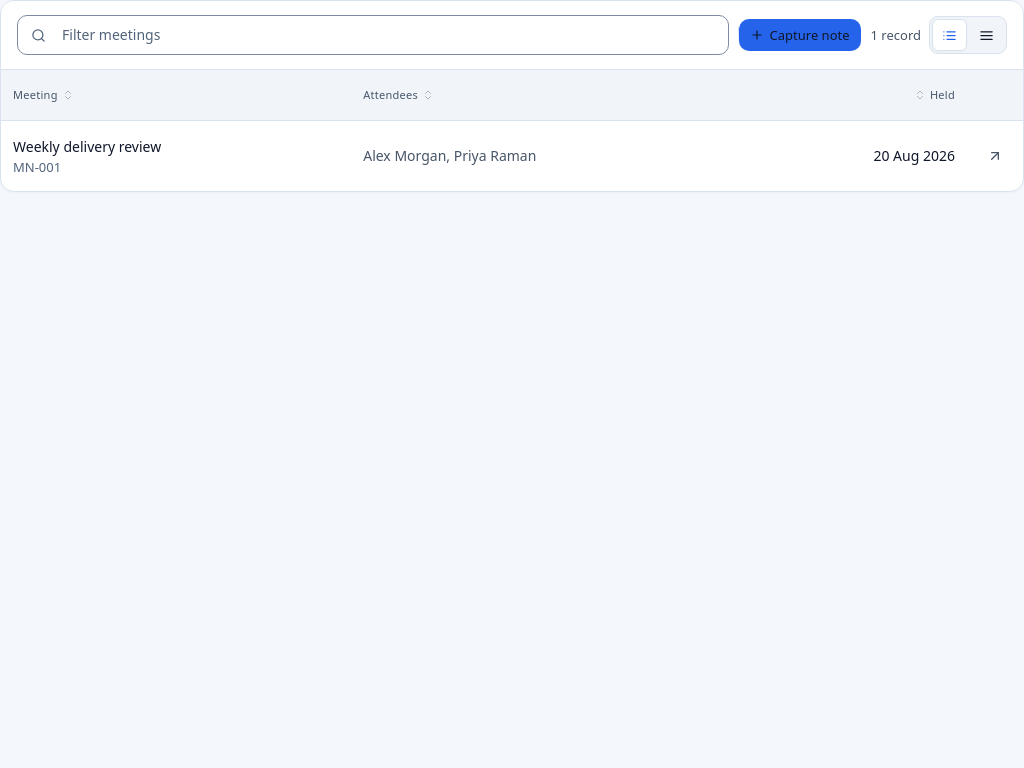
meeting notes › sends the reviewed wording, not the extracted line
Click the text "Weekly delivery review" at (87, 146), box [13,137,161,156]
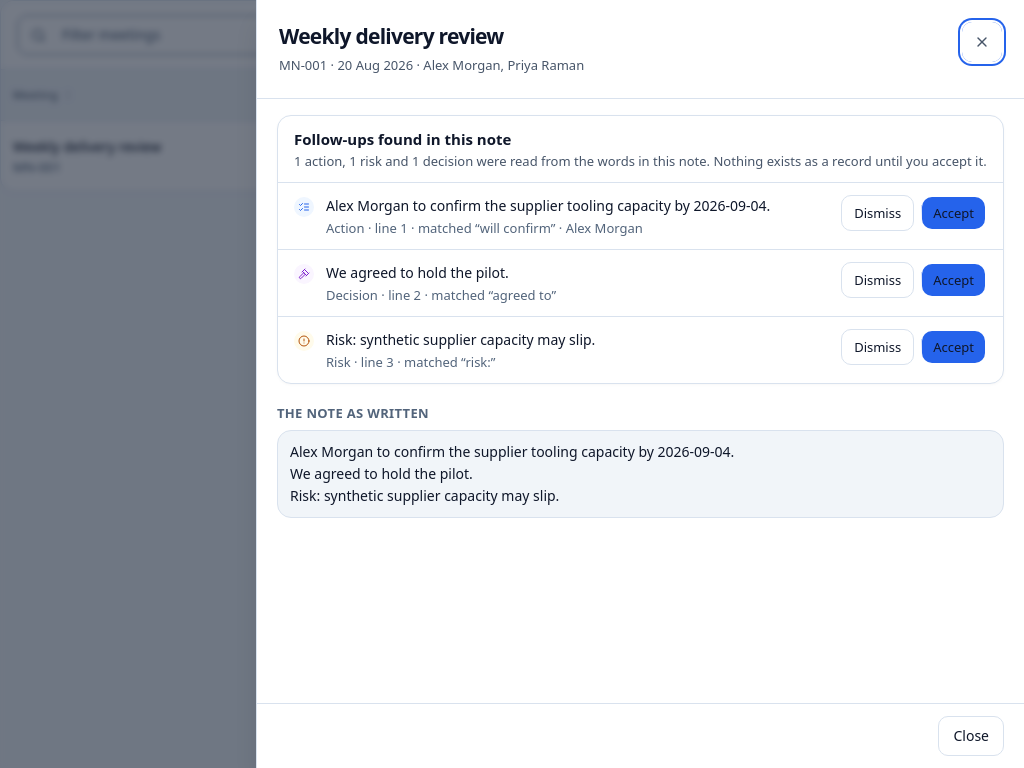
Now the heading "The note as written" is shown, box [277,404,429,422]
Click the 2nd button named "Accept" at (954, 213), box [920,195,987,231]
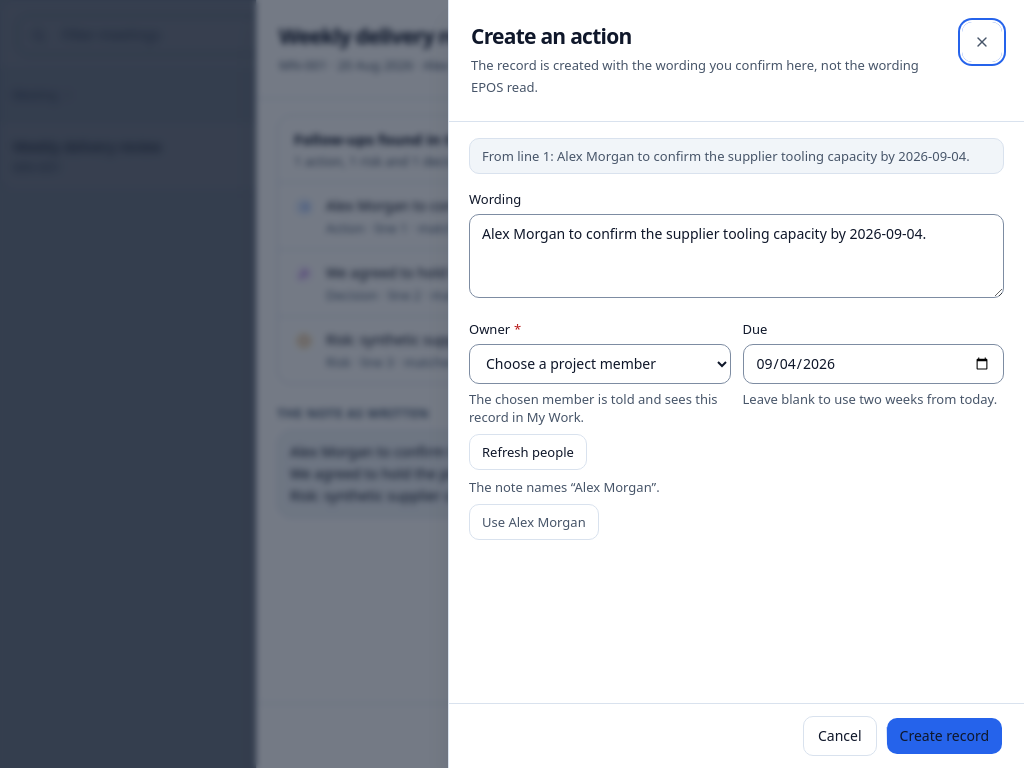
Replace the text in the text box labelled "Wording" with "Confirm supplier tooling capacity" at (736, 256), box [469,214,1004,298]
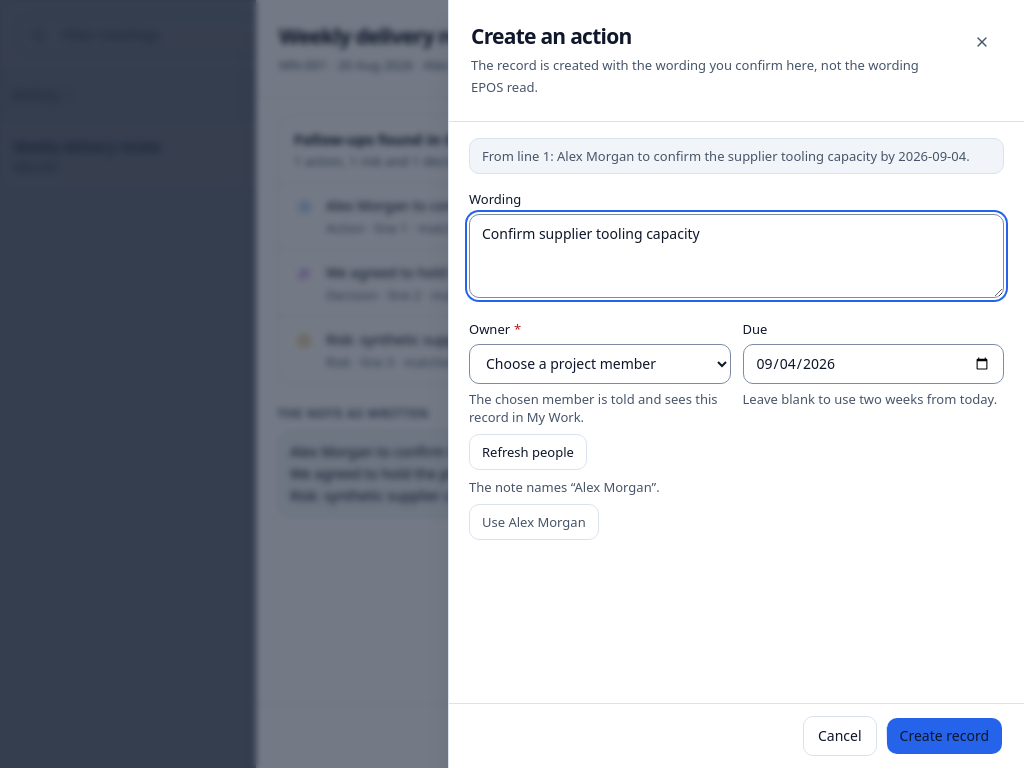
Select "Alex Morgan · Project Manager" in the dropdown labelled "Owner" at (600, 364), box [469,344,730,384]
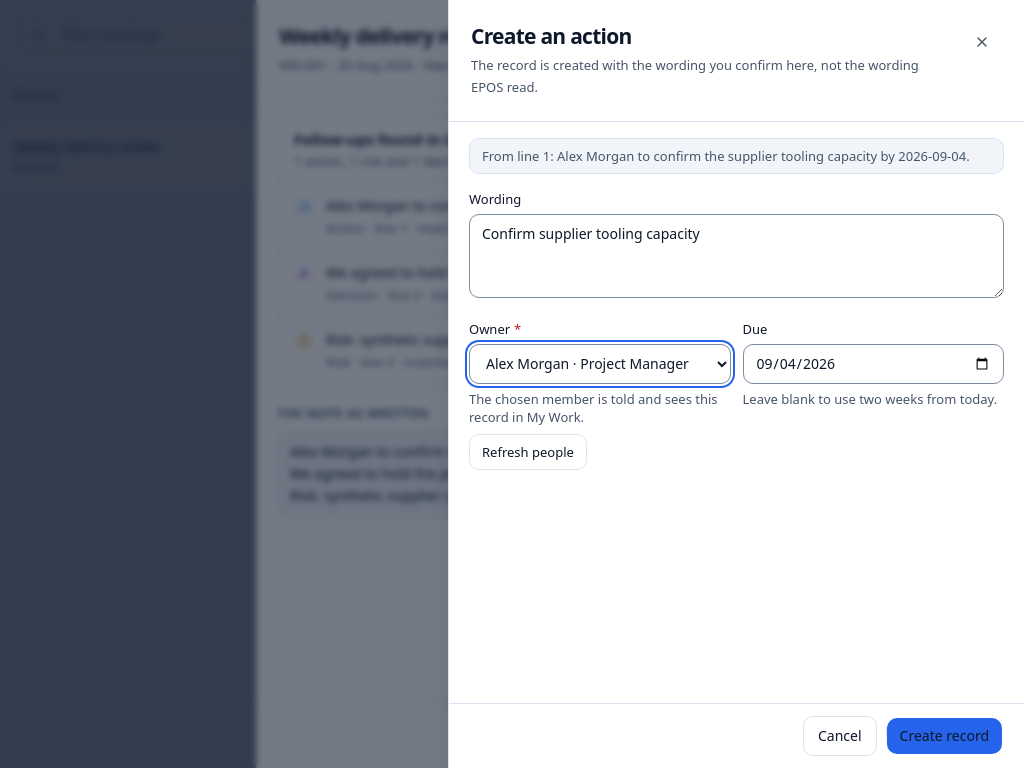
Click the 3rd button named "Create record" at (944, 736), box [885,716,1004,756]
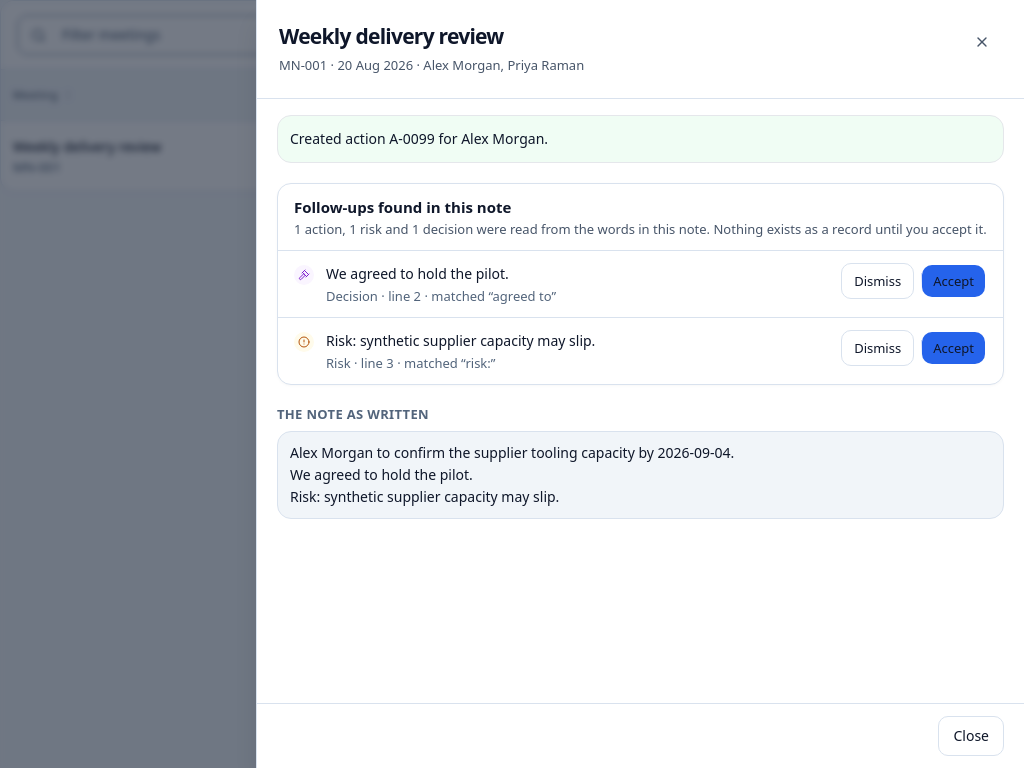
Now the text "Created action A-0099 for Alex Morgan." is shown, box [277,115,1004,163]
